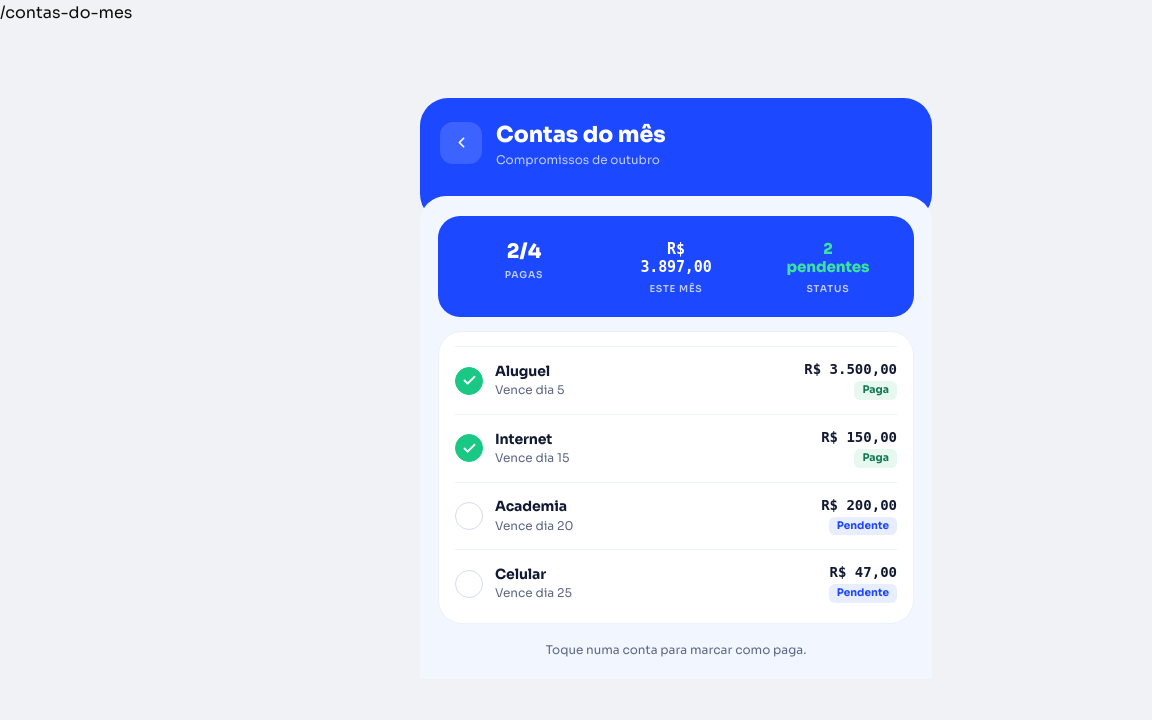
Scenario: Contas do mês — marcar como paga › tocar numa pendente pede confirmação e só paga depois de confirmar
Click the button with aria-label "academia, pendente" at (531, 506), box [455,483,897,549]
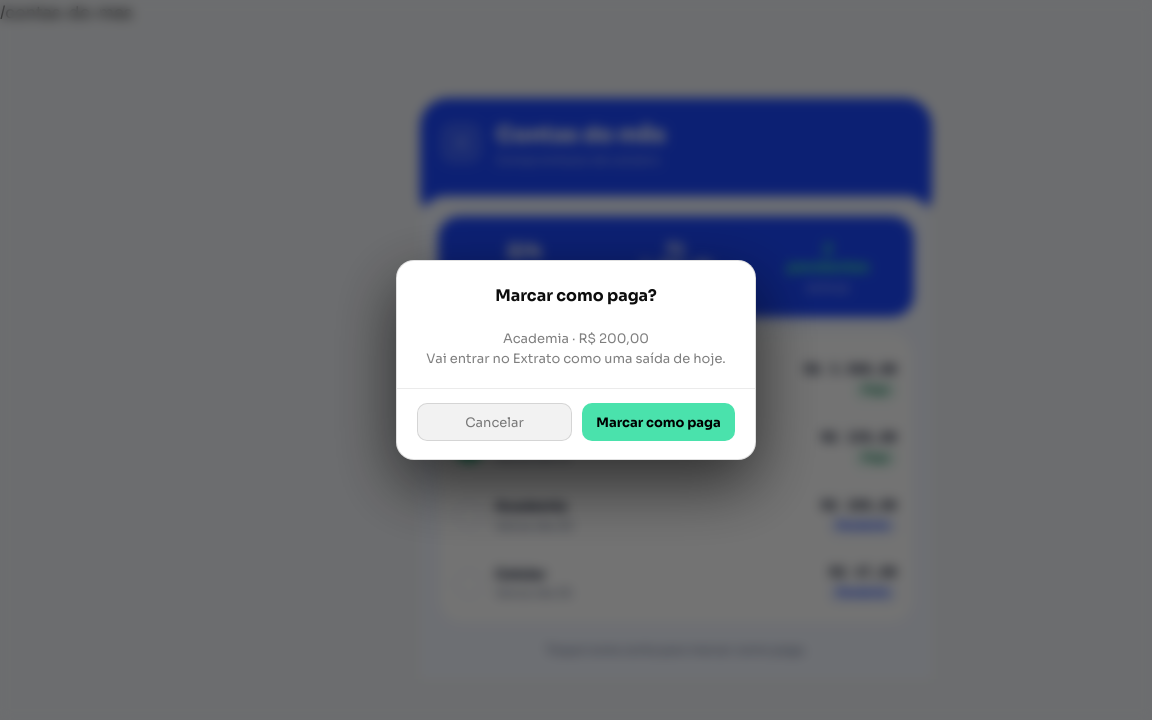
Expected: the text "Academia · R$ 200,00" is shown, [417,328,735,370]
Click the button "Marcar como paga" at (658, 422), box [582,403,735,441]
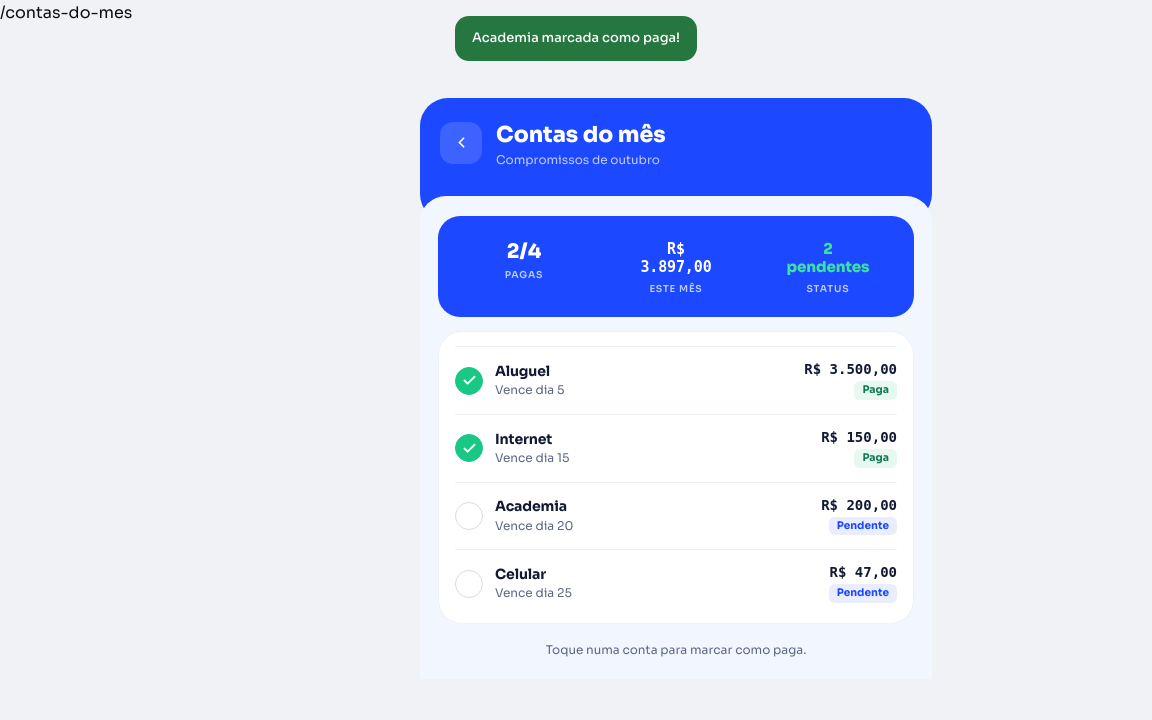
Expected: the text "Academia marcada como paga!" is shown, [455,16,697,61]
